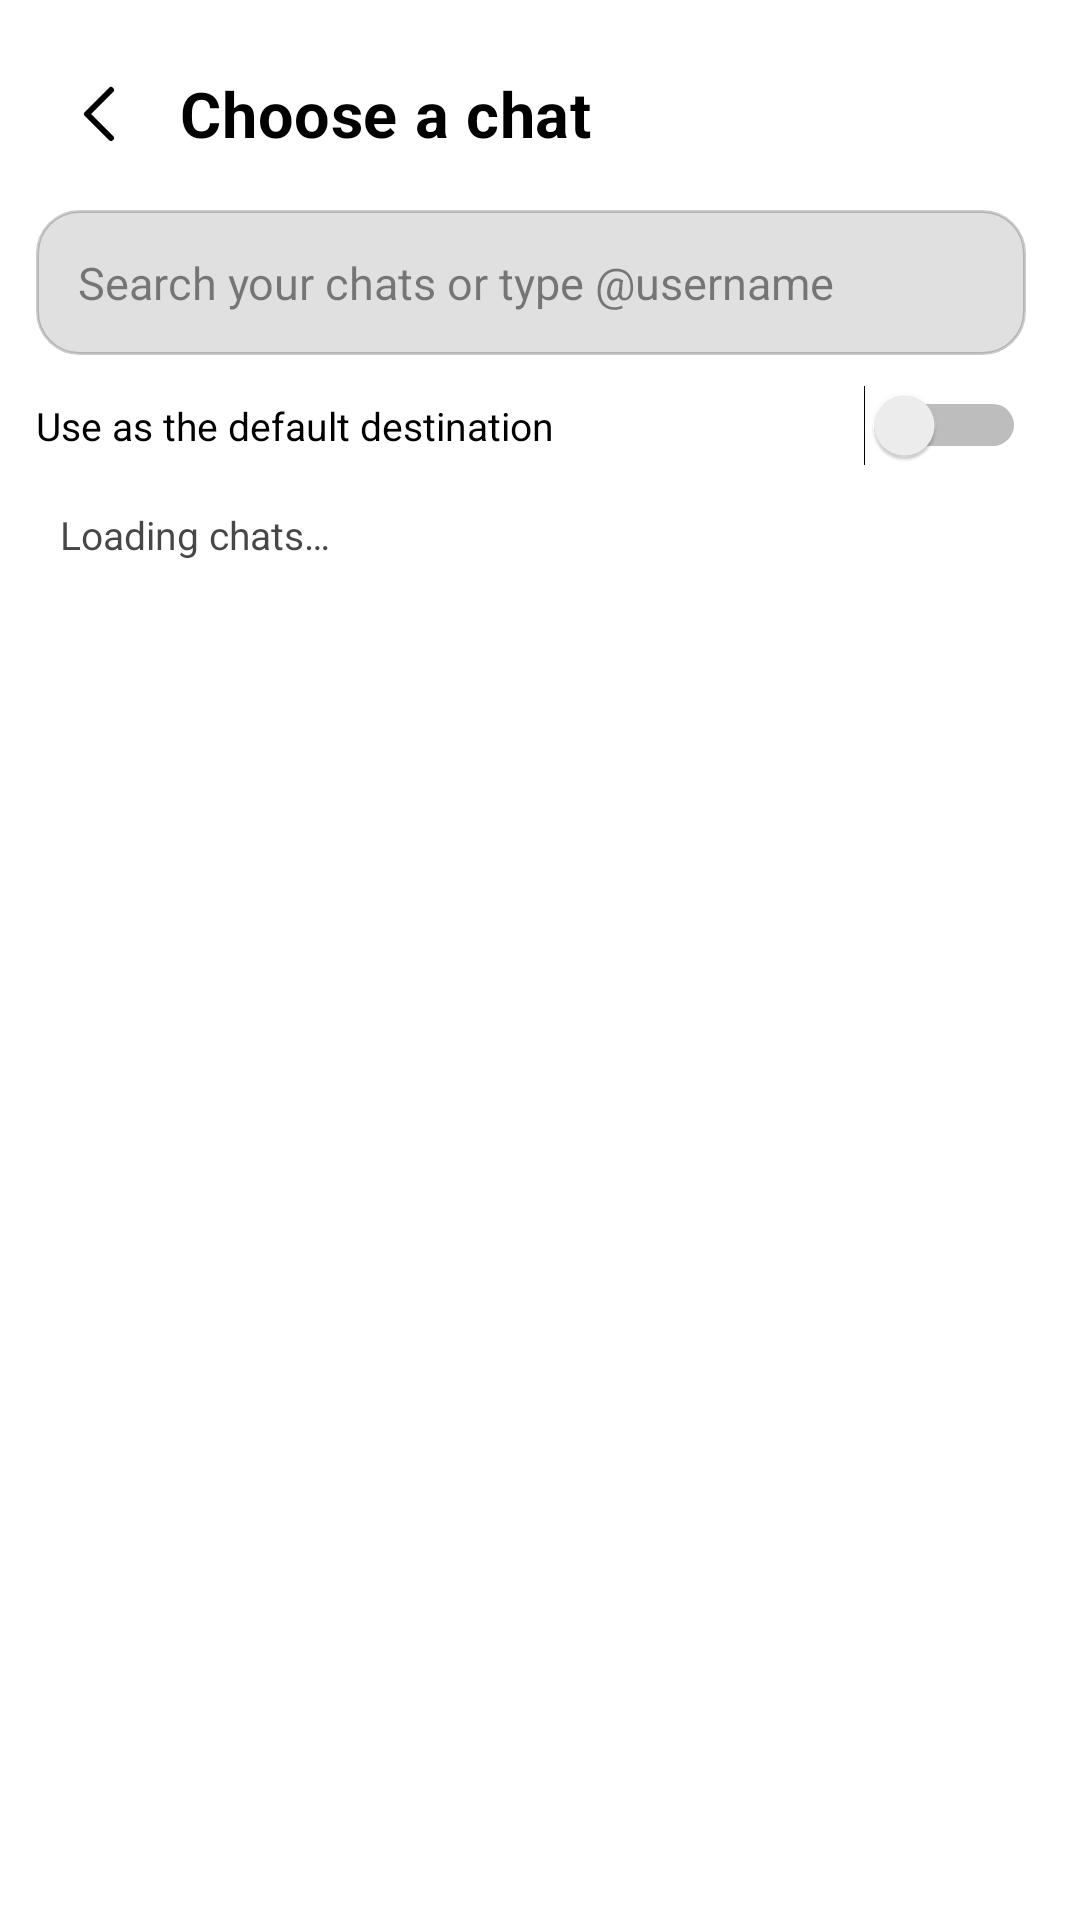

Icons on this 1080 x 1920 Android screen, each with the point to tap as (x=x, y=y):
Back: (x=99, y=113)
